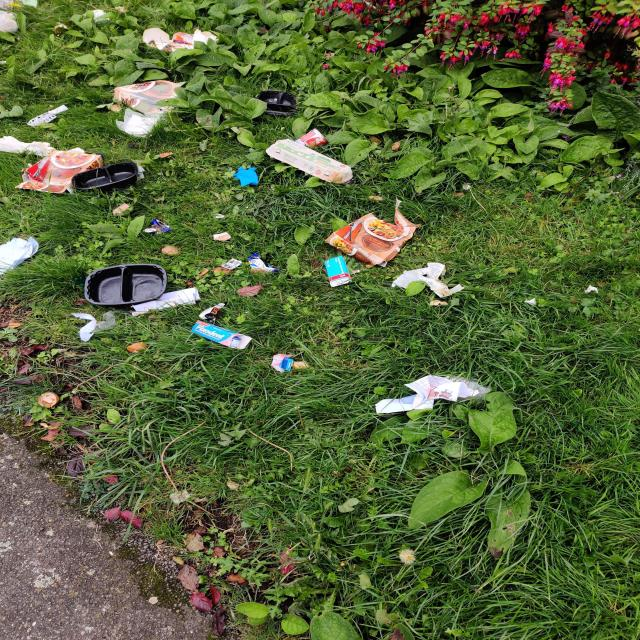litter: (84, 262, 167, 303)
